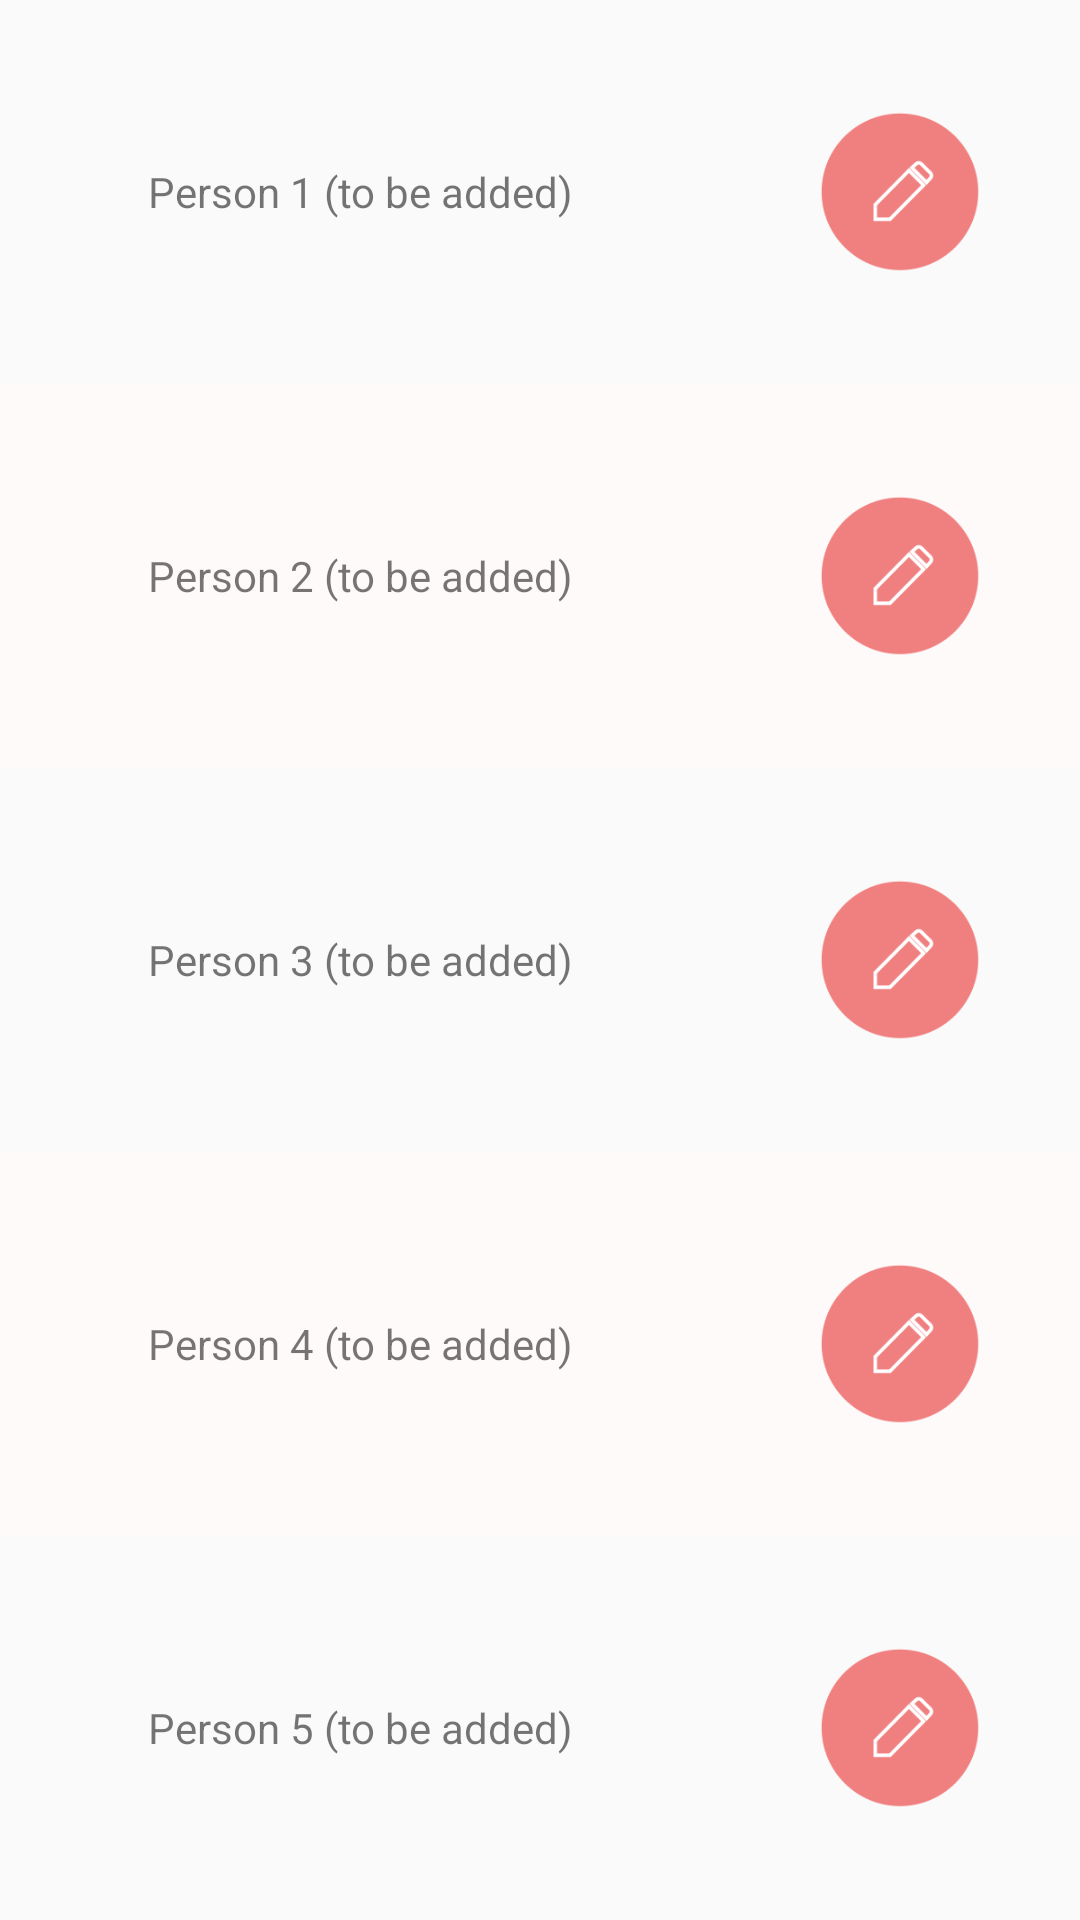

Named icons in this screenshot (1080x1920) and their centers, point (x, y):
cedit: point (900, 192), point (900, 576), point (900, 960), point (900, 1344), point (900, 1728)
